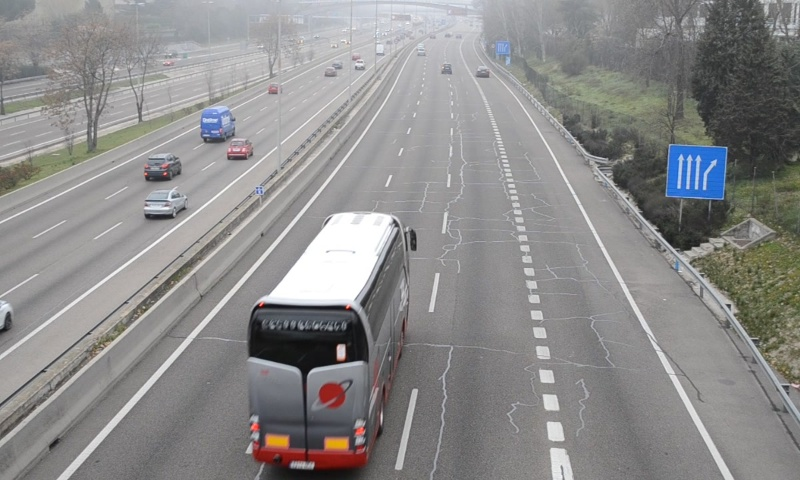bus: (246, 211, 410, 471)
car: (440, 62, 454, 76), (476, 66, 490, 78)
